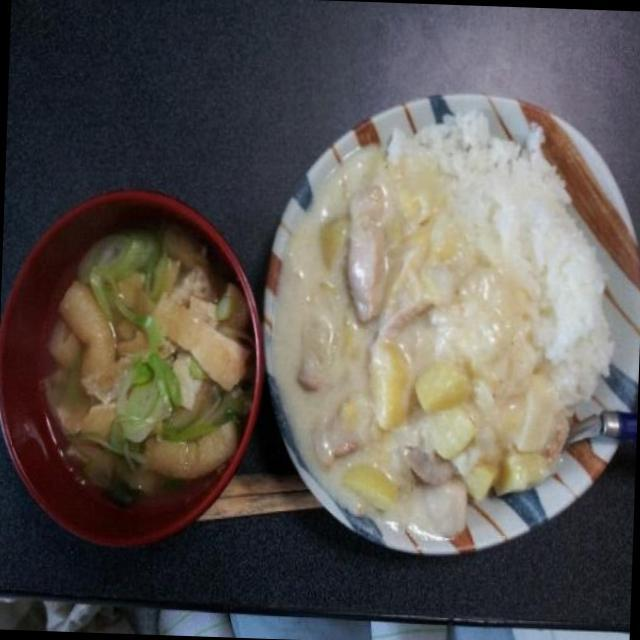Rice: (459, 115, 619, 292)
